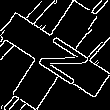N_NW: (23, 25, 87, 85)
